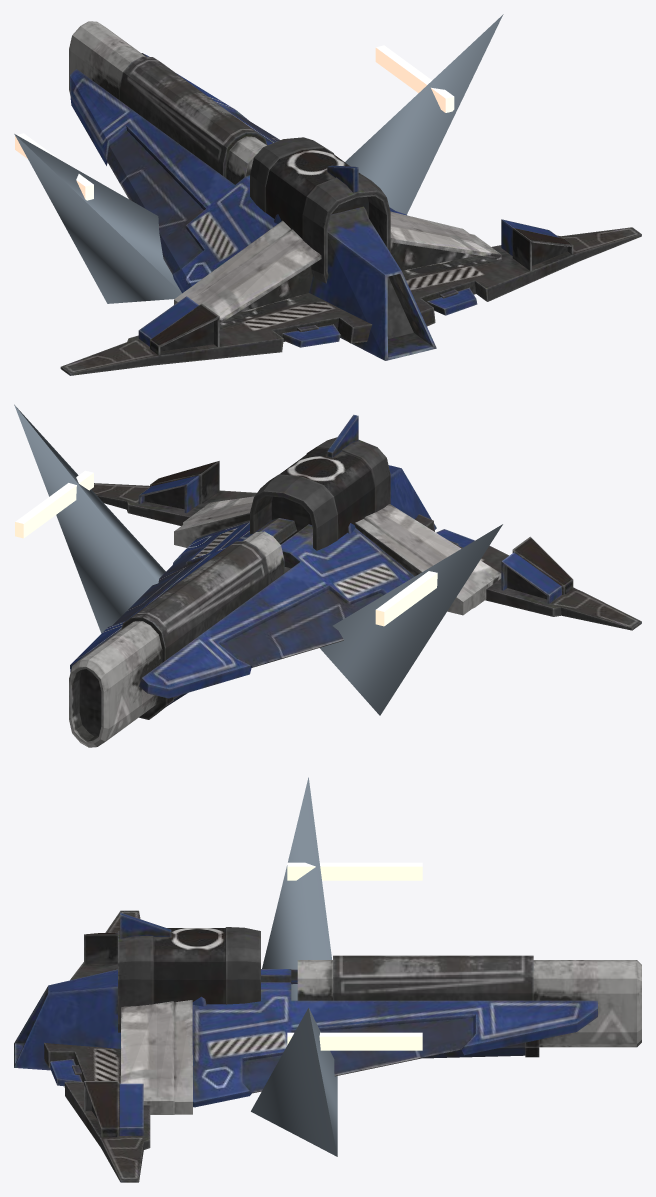
Rendered from enemy_pirate.glb.
3 views of the same model, one above another, from view 1: azimuth 30°, elevation 25°; view 2: azimuth 150°, elevation 25°; view 3: azimuth 270°, elevation 25° (orthographic). The views are drawn at different scales.
Parts seen in each view (by area): view 1: enemy_pirate; view 2: enemy_pirate; view 3: enemy_pirate.
Boxes of the visible parts, x1,y1,x2,y2 form: enemy_pirate: (14, 14, 641, 375); enemy_pirate: (14, 404, 641, 747); enemy_pirate: (14, 777, 641, 1182).
Size of the model in its own units: 1.65 by 0.5732 by 1.62.
Materials: 3 (1 with a texture image).
